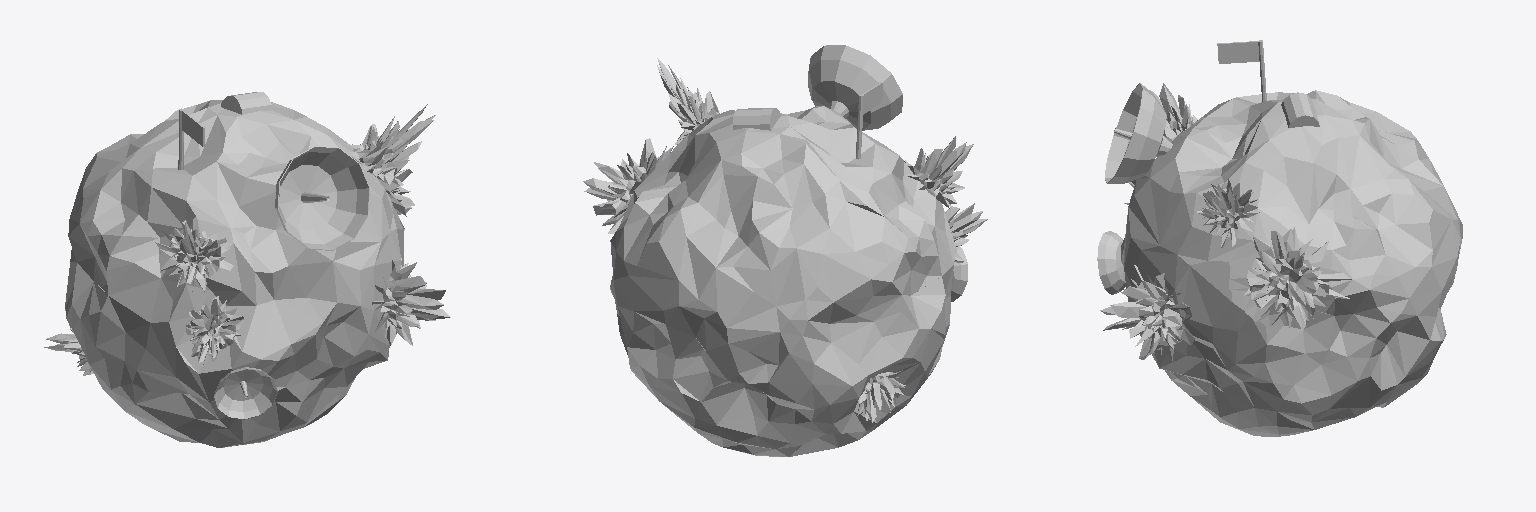
Rendered from Planet Grey Ice.obj.
3 views of the same model, side by side, from view 1: azimuth 30°, elevation 25°; view 2: azimuth 150°, elevation 25°; view 3: azimuth 270°, elevation 25° (orthographic).
Visible parts, largest first — view 1: grey_planet_Mesh.015; view 2: grey_planet_Mesh.015; view 3: grey_planet_Mesh.015.
Boxes of the visible parts, box(x1,y1,x2,y2) form: grey_planet_Mesh.015: box(44, 92, 450, 447); grey_planet_Mesh.015: box(583, 45, 987, 456); grey_planet_Mesh.015: box(1097, 40, 1462, 436).
Size of the model in its own units: 10.71 by 10.45 by 9.95.